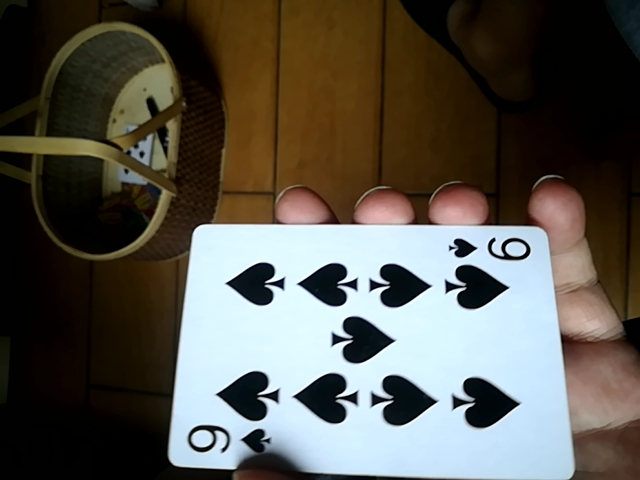ht 9: (171, 217, 572, 475)
